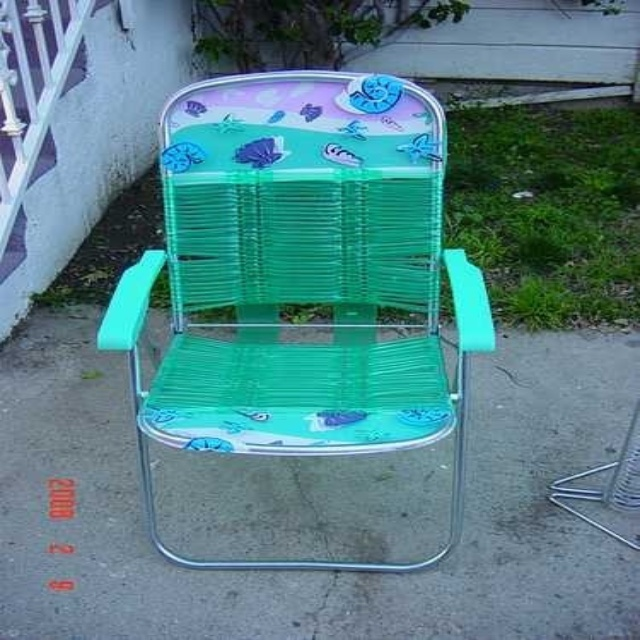obstacle: (97, 70, 493, 570)
